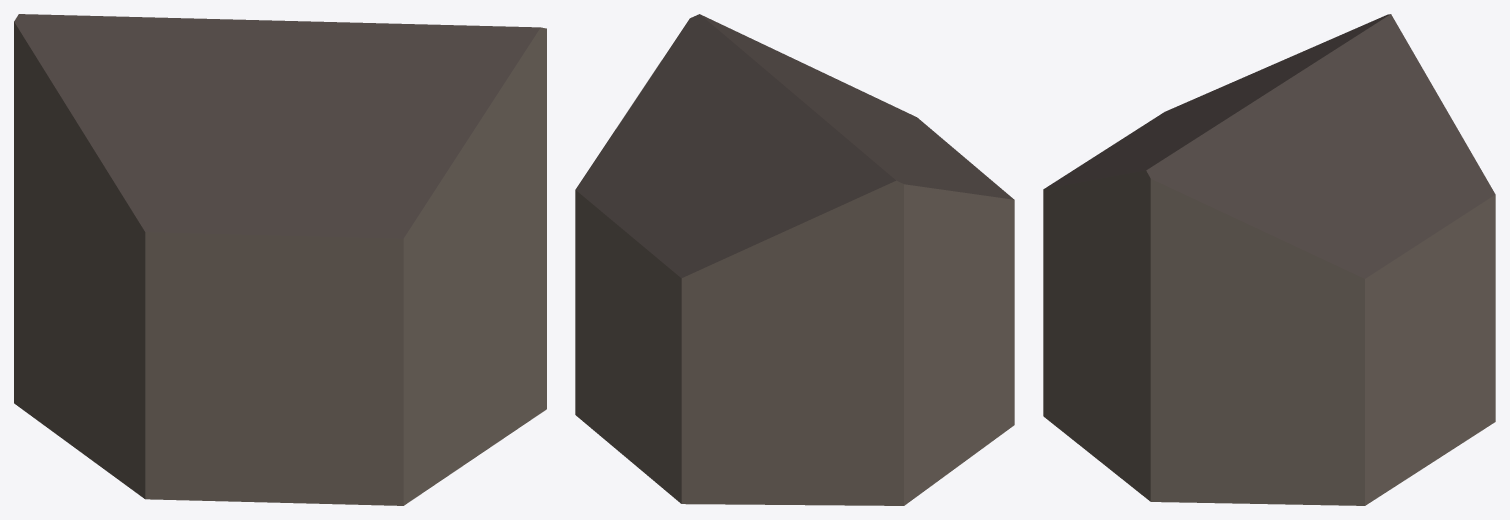
3 renders of one model, left to right at view 1: azimuth 30°, elevation 25°; view 2: azimuth 150°, elevation 25°; view 3: azimuth 270°, elevation 25°, orthographic. The views are drawn at different scales.
Parts seen in each view (by area): view 1: HP-w1197556192; view 2: HP-w1197556192; view 3: HP-w1197556192.
Part boxes in pixels (x1,y1,x2,y2): HP-w1197556192: (14,14,546,505); HP-w1197556192: (575,14,1014,505); HP-w1197556192: (1043,14,1495,505).
Size of the model in its own units: 9.47 by 8.66 by 10.83.
